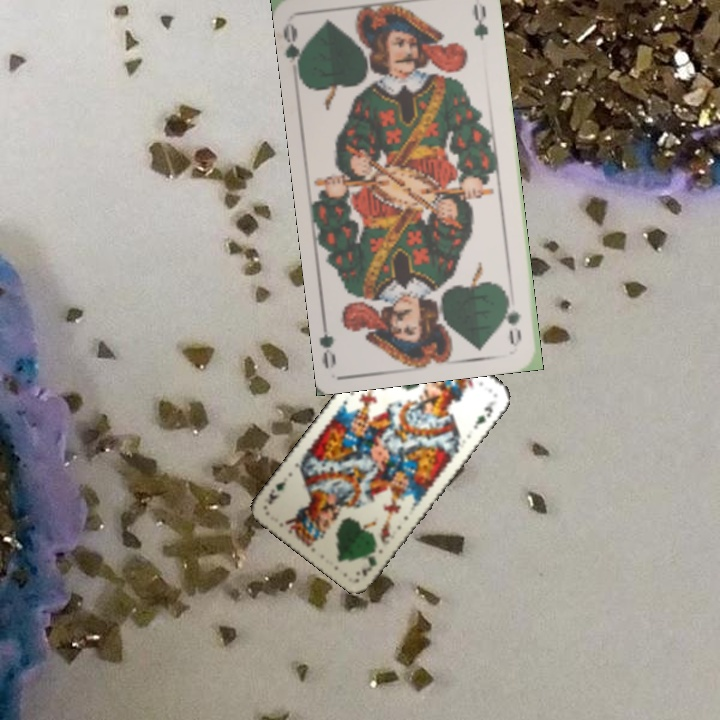GK: (358, 551, 379, 579)
GO: (280, 21, 310, 79), (500, 288, 524, 346)
